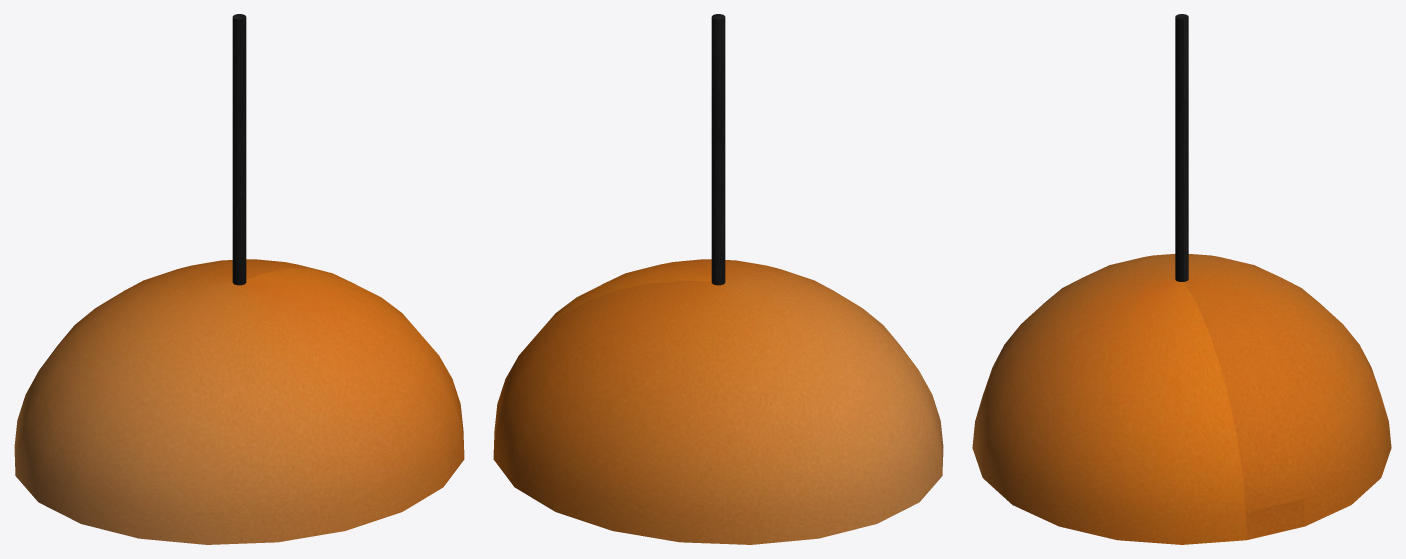
File: LamparaTecho.obj
3 renders of one model, left to right at view 1: azimuth 30°, elevation 25°; view 2: azimuth 150°, elevation 25°; view 3: azimuth 270°, elevation 25°, orthographic.
Parts seen in each view (by area): view 1: LamparaTecho:polySurface2pSphere2; view 2: LamparaTecho:polySurface2pSphere2; view 3: LamparaTecho:polySurface2pSphere2.
Boxes of the visible parts, x1=… form: LamparaTecho:polySurface2pSphere2: x1=14, y1=14, x2=464, y2=544; LamparaTecho:polySurface2pSphere2: x1=493, y1=14, x2=943, y2=544; LamparaTecho:polySurface2pSphere2: x1=972, y1=14, x2=1391, y2=544.
Bounding box in the file's own units: 5.3 × 5.5 × 4.84.
